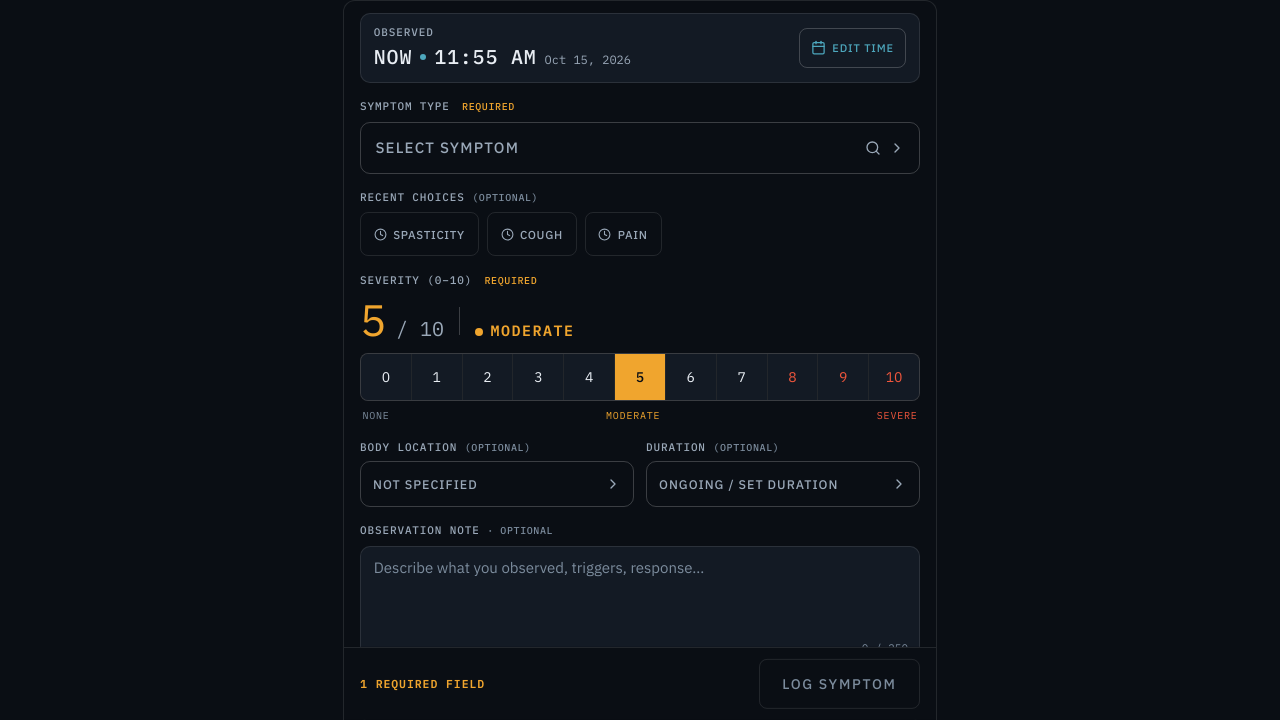
Scenario: SymptomLogForm › posts the mapped payload and resets
The image size is (1280, 720).
Click the button "Select symptom" at (447, 148), box [360, 122, 920, 174]
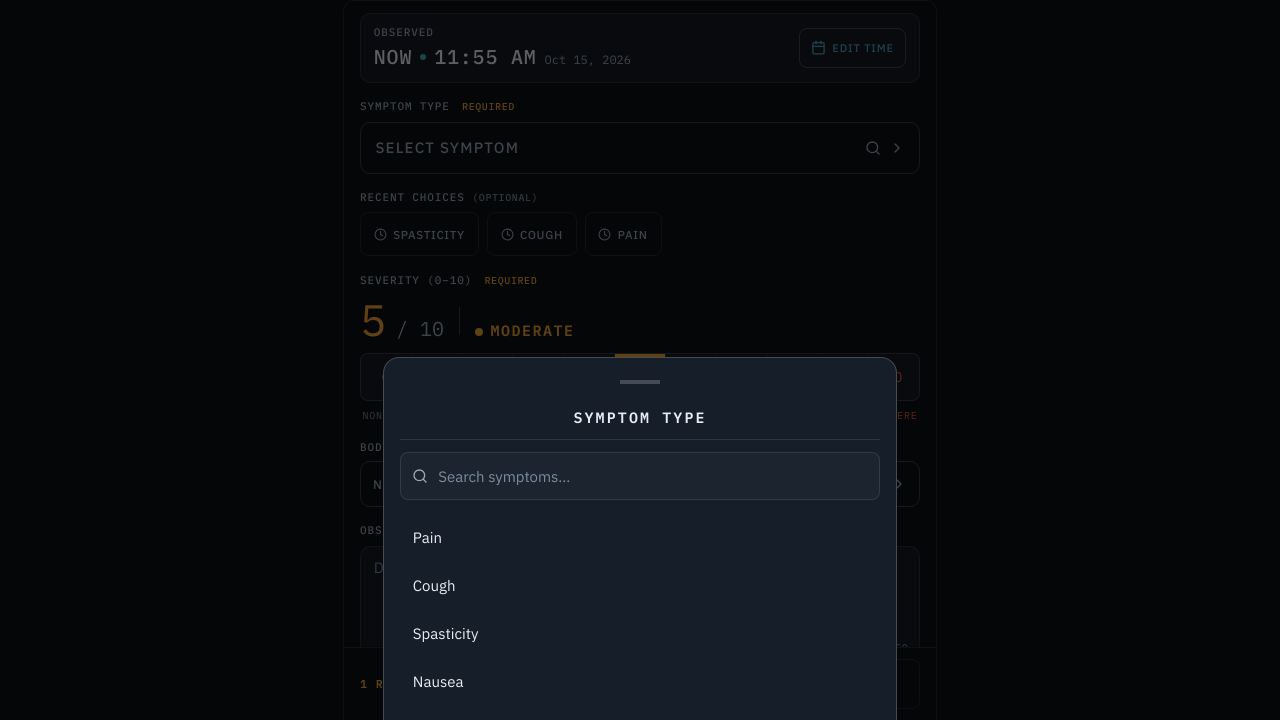
Click the button "Cough" at (434, 585), box [400, 562, 880, 608]
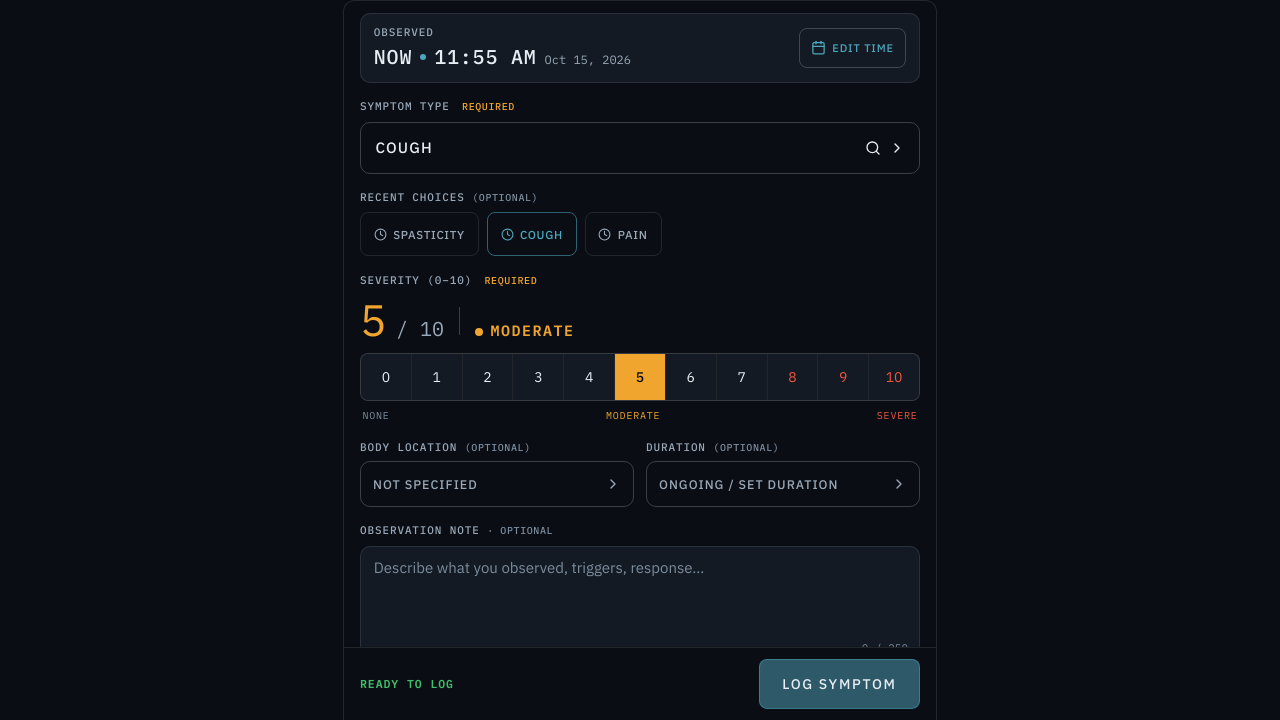
Click the radio button labelled "7" at (742, 377), box [717, 354, 766, 400]
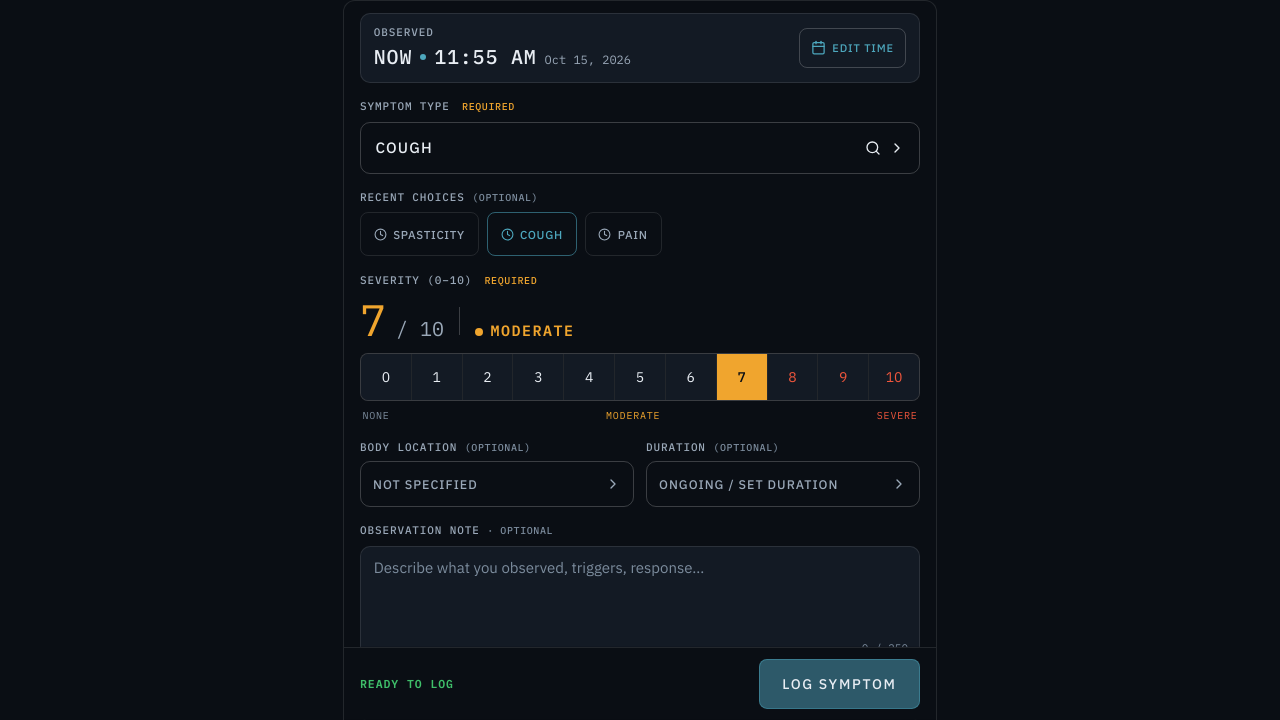
Type "wet cough after feed" into the text box with placeholder "Describe what you observed, triggers, response…" at (640, 603), box [360, 546, 920, 660]
(page scrolled)
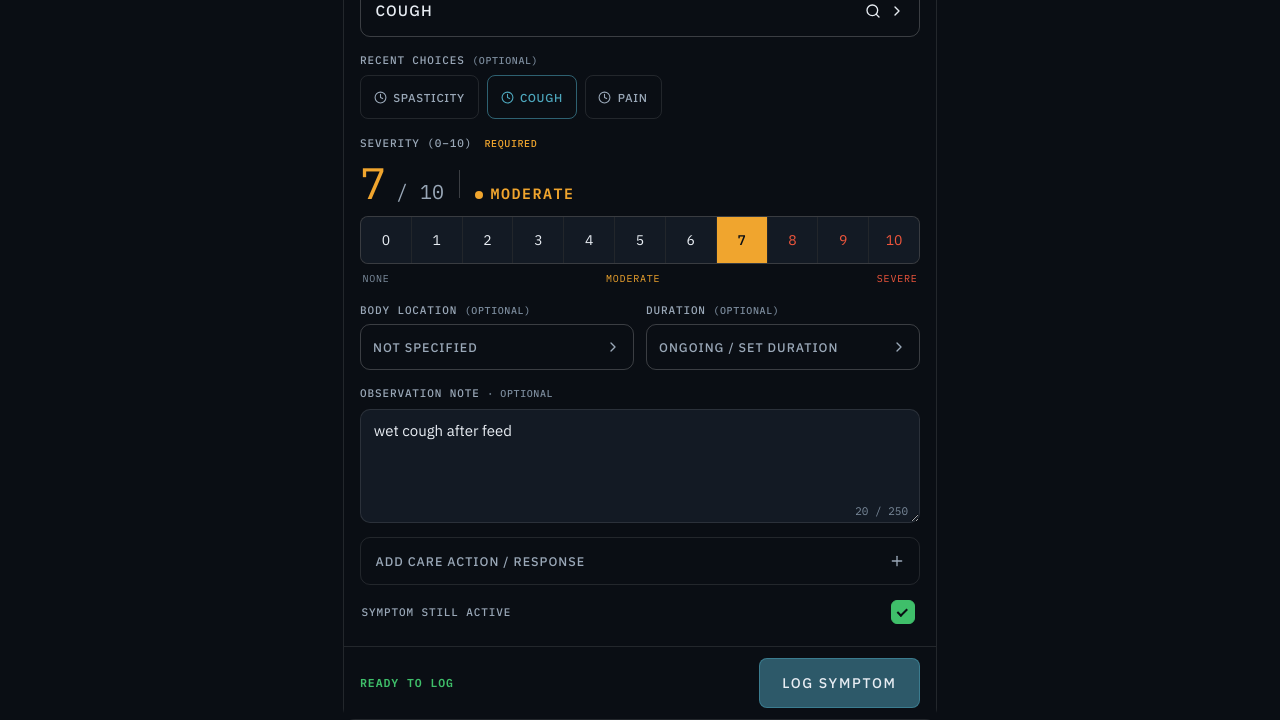
Click the checkbox labelled "Symptom still active" at (903, 612), box [891, 600, 915, 624]
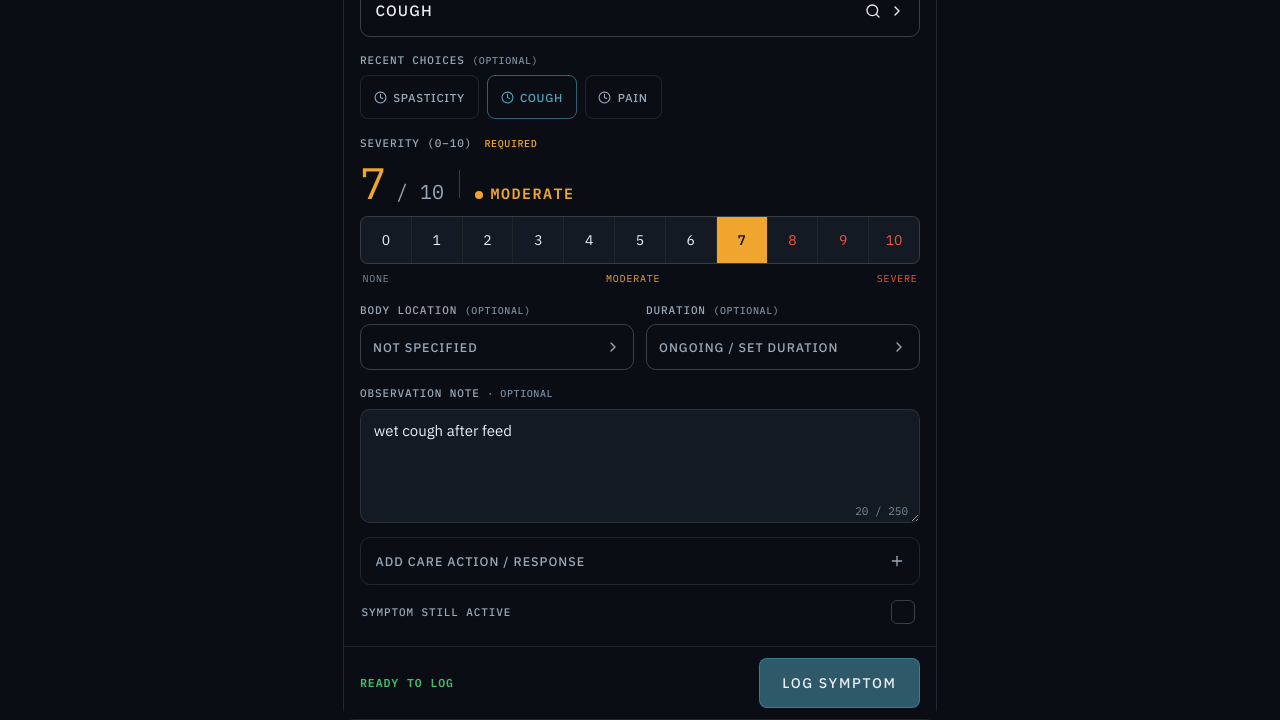
Click the button "Log symptom" at (839, 683), box [759, 658, 920, 708]
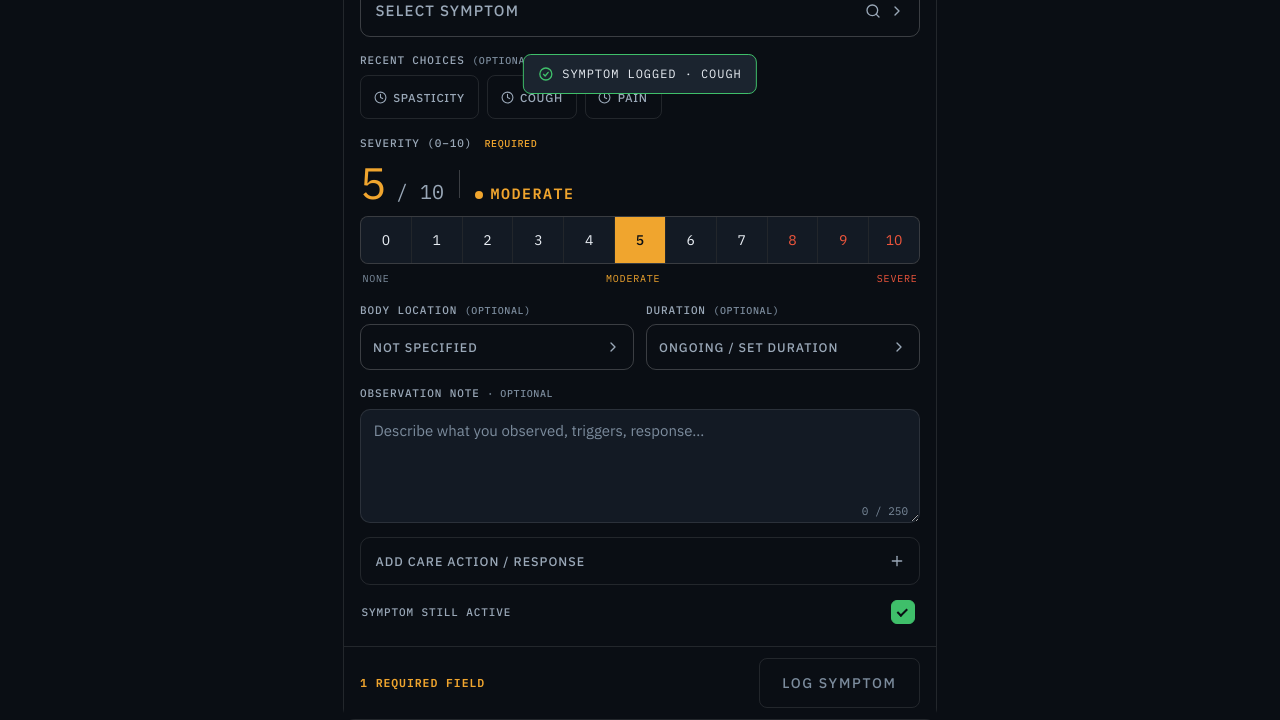
Result: the text "Symptom logged · Cough" is shown at [523, 54, 757, 94]
Result: the text "1 required field" is shown at [360, 674, 485, 692]
